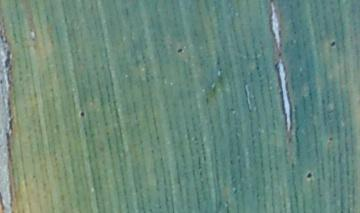tarspot: (4, 49, 10, 67), (326, 134, 334, 142), (329, 39, 336, 48), (305, 171, 313, 178), (176, 47, 183, 54), (79, 110, 85, 117), (1, 78, 4, 85)
